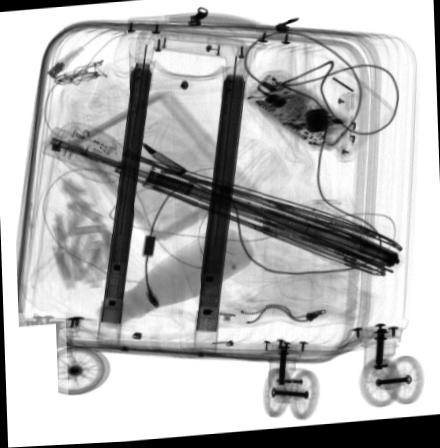Bullet: (138, 143, 187, 178)
